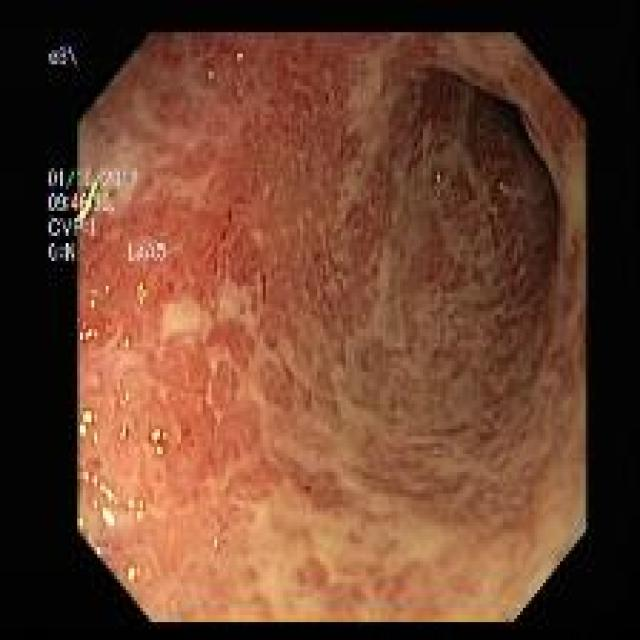ulcerative-colitis: (79, 33, 586, 621)
